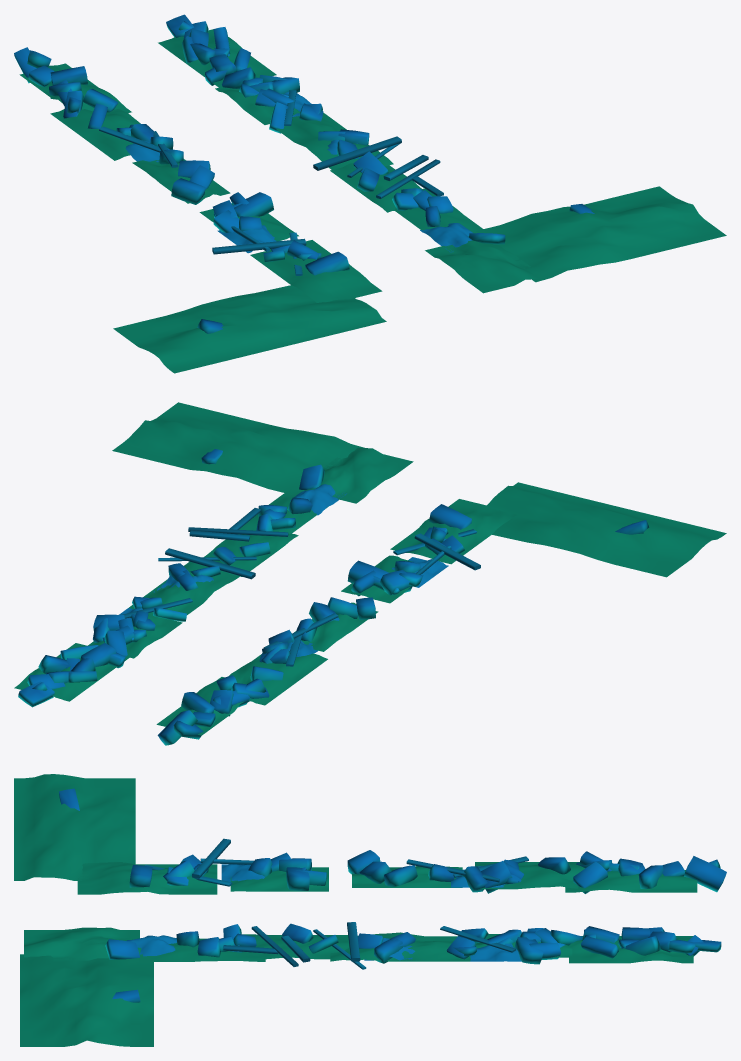
File: lowtown_rubble.glb
The picture shows the model from 3 angles, top to bottom: view 1: azimuth 30°, elevation 25°; view 2: azimuth 150°, elevation 25°; view 3: azimuth 270°, elevation 25°; orthographic projection.
Parts seen in each view (by area): view 1: lowtown_rubble; view 2: lowtown_rubble; view 3: lowtown_rubble.
Part boxes in pixels (<box>): lowtown_rubble: <box>14,14,726,373</box>; lowtown_rubble: <box>14,402,726,745</box>; lowtown_rubble: <box>14,774,726,1046</box>.
Size of what is drawn, in the model's own units: 20.9 by 1.1 by 23.45.
